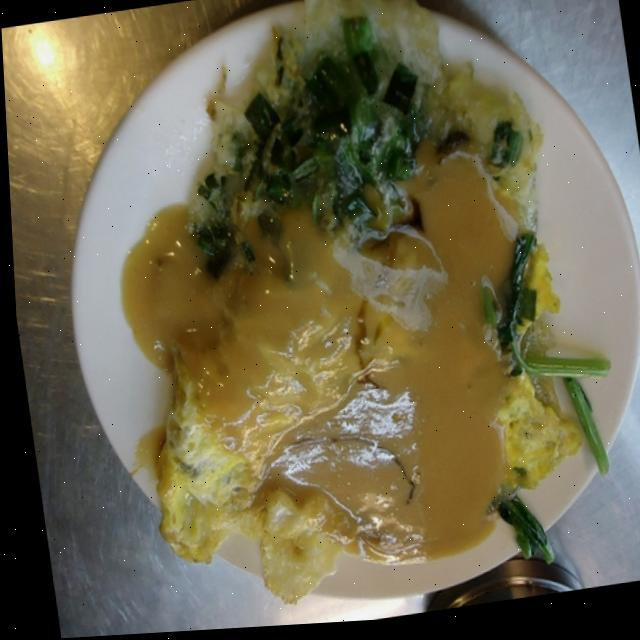熟制海鲜: (19, 0, 640, 637)
